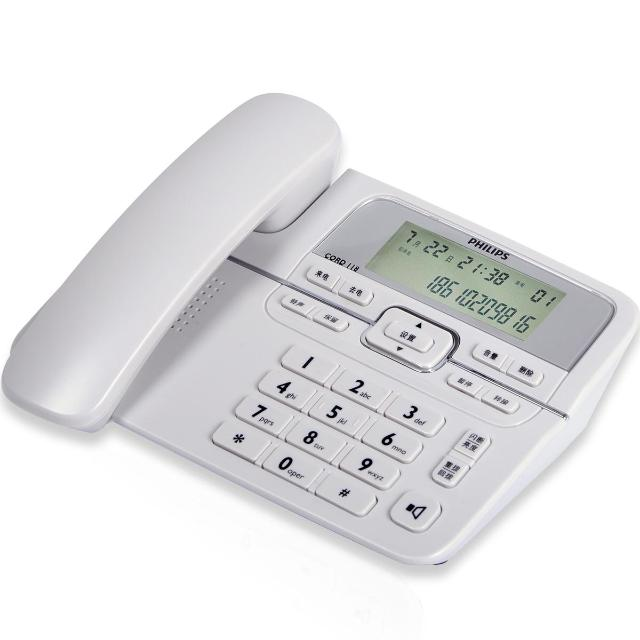Telephone-Set: (24, 104, 640, 574)
